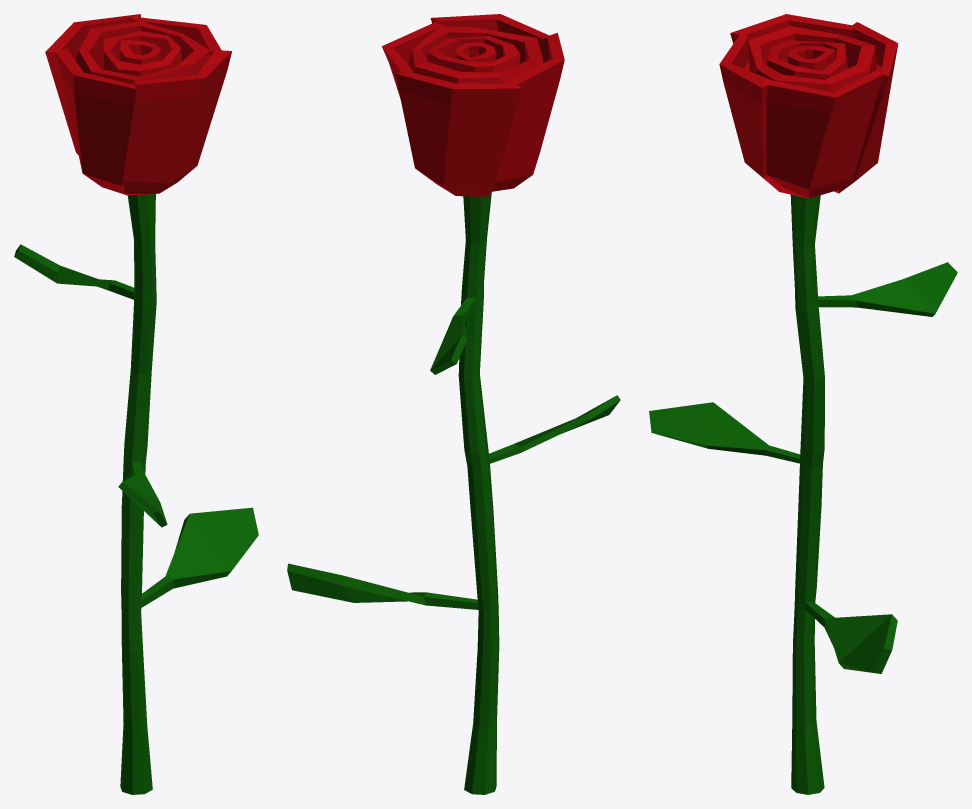
The model's file is flower-rose.glb.
3 views of the same model, side by side, from view 1: azimuth 30°, elevation 25°; view 2: azimuth 150°, elevation 25°; view 3: azimuth 270°, elevation 25° (orthographic).
Visible parts, largest first — view 1: flower, stem; view 2: flower, stem; view 3: stem, flower.
Boxes of the visible parts, x1,y1,x2,y2 form: flower: [45, 14, 231, 195]; stem: [14, 194, 258, 794]; flower: [382, 14, 564, 196]; stem: [287, 191, 620, 794]; stem: [649, 194, 957, 794]; flower: [719, 14, 898, 198].
Size of the model in its own units: 0.3711 by 1.15 by 0.4346.
